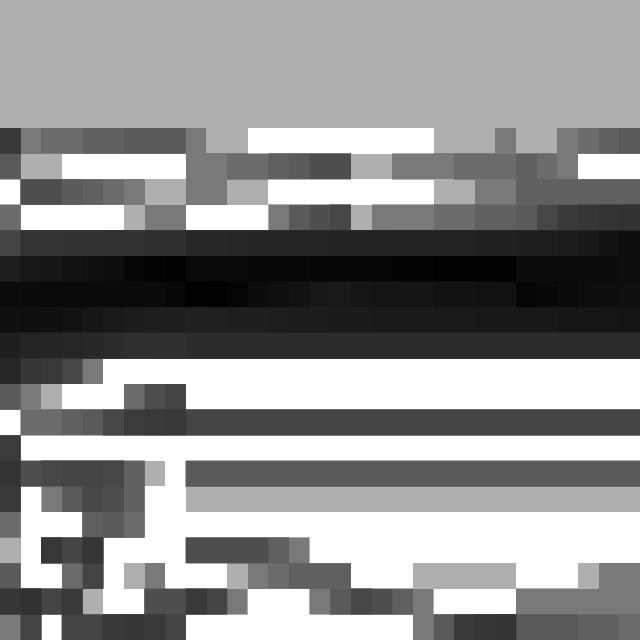arms: (0, 0, 640, 640), (0, 0, 640, 128)
